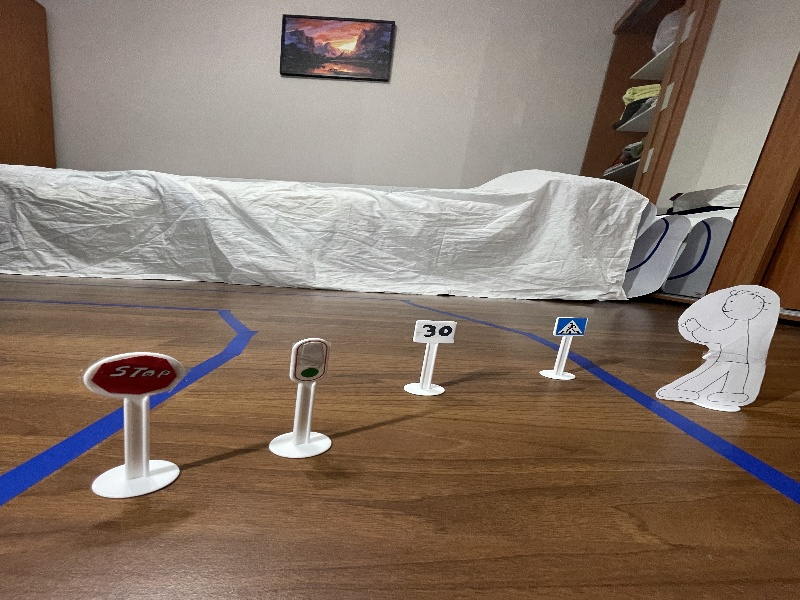persoana: (659, 268, 781, 414)
semafor_verde: (278, 330, 336, 389)
stop: (80, 334, 188, 403)
trecere_pietoni: (550, 311, 591, 339)
viteza_limita_30: (411, 305, 464, 348)
